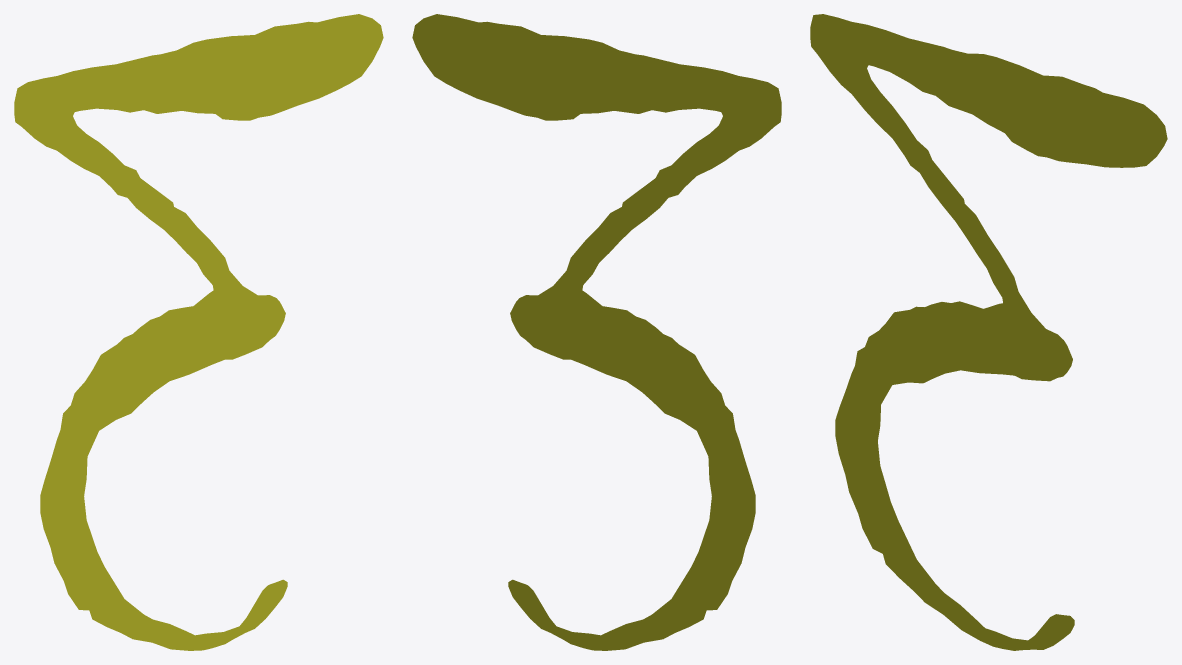
File: three.obj
The picture shows the model from 3 angles, left to right: view 1: azimuth 30°, elevation 25°; view 2: azimuth 150°, elevation 25°; view 3: azimuth 330°, elevation 25°; orthographic projection. The views are drawn at different scales.
Parts seen in each view (by area): view 1: three.001; view 2: three.001; view 3: three.001.
Part boxes in pixels (<box>): three.001: <box>14,14,383,650</box>; three.001: <box>412,14,781,650</box>; three.001: <box>810,14,1167,650</box>.
Size of the model in its own units: 0.3631 by 0.5743 by 0.
